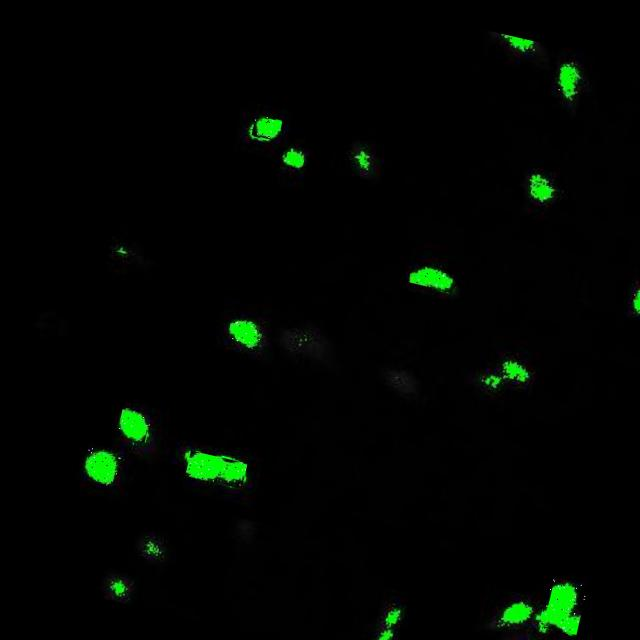Cell: (540, 576, 588, 636), (184, 451, 247, 488), (81, 446, 121, 486), (408, 264, 458, 294), (115, 408, 152, 443), (226, 318, 263, 349), (555, 59, 583, 98), (526, 172, 557, 203), (250, 114, 282, 141), (282, 146, 306, 168), (629, 282, 640, 316)
